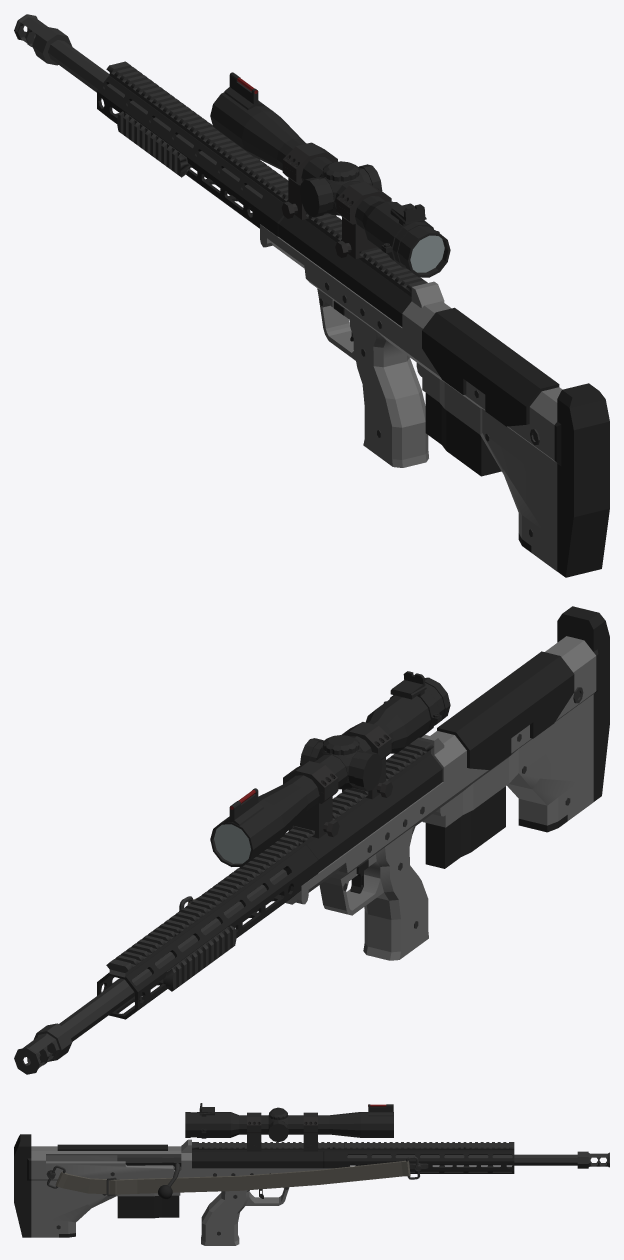
The model's file is SRSA1.glb.
3 views of the same model, one above another, from view 1: azimuth 30°, elevation 25°; view 2: azimuth 150°, elevation 25°; view 3: azimuth 270°, elevation 25° (orthographic). The views are drawn at different scales.
Visible parts, largest first — view 1: Body_Lower, Buttpad, Pistol_Grip, Cheekpad, Scope_Kahlia.001, Rail, Handguard, Body_Upper, Magazine, Barrel, Rail_Long_Very, Compensator (+6 smaller); view 2: Body_Lower, Cheekpad, Pistol_Grip, Scope_Kahlia.001, Rail, Handguard, Body_Upper, Buttpad, Magazine, Barrel, Compensator, Rail_Long_Very (+8 smaller); view 3: Body_Lower, Sling.001, Scope_Kahlia.001, Handguard, Rail, Pistol_Grip, Body_Upper, Buttpad, Barrel, Magazine, Cheekpad, Bolt (+7 smaller).
Part boxes in pixels (left/top/right/bottom): Body_Lower: left=260, top=224, right=562, bottom=571; Buttpad: left=554, top=383, right=609, bottom=577; Pistol_Grip: left=317, top=288, right=428, bottom=467; Cheekpad: left=422, top=307, right=559, bottom=426; Scope_Kahlia.001: left=210, top=92, right=450, bottom=277; Rail: left=106, top=61, right=427, bottom=296; Handguard: left=97, top=75, right=284, bottom=236; Body_Upper: left=279, top=214, right=411, bottom=326; Magazine: left=425, top=393, right=501, bottom=476; Barrel: left=48, top=40, right=262, bottom=201; Rail_Long_Very: left=117, top=111, right=190, bottom=177; Compensator: left=14, top=14, right=72, bottom=65; Body_Lower: left=285, top=636, right=596, bottom=904; Cheekpad: left=437, top=651, right=574, bottom=770; Pistol_Grip: left=319, top=825, right=428, bottom=960; Scope_Kahlia.001: left=210, top=677, right=450, bottom=866; Rail: left=106, top=739, right=433, bottom=977; Handguard: left=97, top=844, right=318, bottom=1019; Body_Upper: left=307, top=754, right=442, bottom=872; Buttpad: left=557, top=606, right=609, bottom=801; Magazine: left=425, top=786, right=505, bottom=868; Barrel: left=59, top=869, right=287, bottom=1041; Compensator: left=14, top=1023, right=72, bottom=1074; Rail_Long_Very: left=163, top=925, right=236, bottom=991; Body_Lower: left=31, top=1139, right=331, bottom=1237; Sling.001: left=55, top=1160, right=410, bottom=1194; Scope_Kahlia.001: left=185, top=1112, right=393, bottom=1137; Handguard: left=323, top=1151, right=514, bottom=1173; Rail: left=192, top=1142, right=514, bottom=1151; Pistol_Grip: left=201, top=1187, right=289, bottom=1245; Body_Upper: left=192, top=1152, right=323, bottom=1168; Buttpad: left=14, top=1134, right=31, bottom=1237; Barrel: left=347, top=1154, right=577, bottom=1165; Magazine: left=117, top=1168, right=179, bottom=1218; Cheekpad: left=57, top=1144, right=167, bottom=1150; Bolt: left=117, top=1155, right=181, bottom=1166.
Bounding box in the file's own units: 0.0246 × 0.0731 × 0.289.
Materials: 4 (4 with a texture image).
